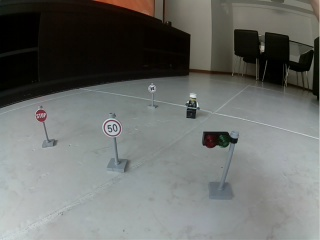Green Traffic Light: (202, 130, 238, 201)
Person: (185, 93, 201, 120)
Speed Limit 30: (148, 85, 157, 94)
Speed Limit 50: (102, 119, 122, 139)
Stop Sign: (34, 108, 48, 122)
